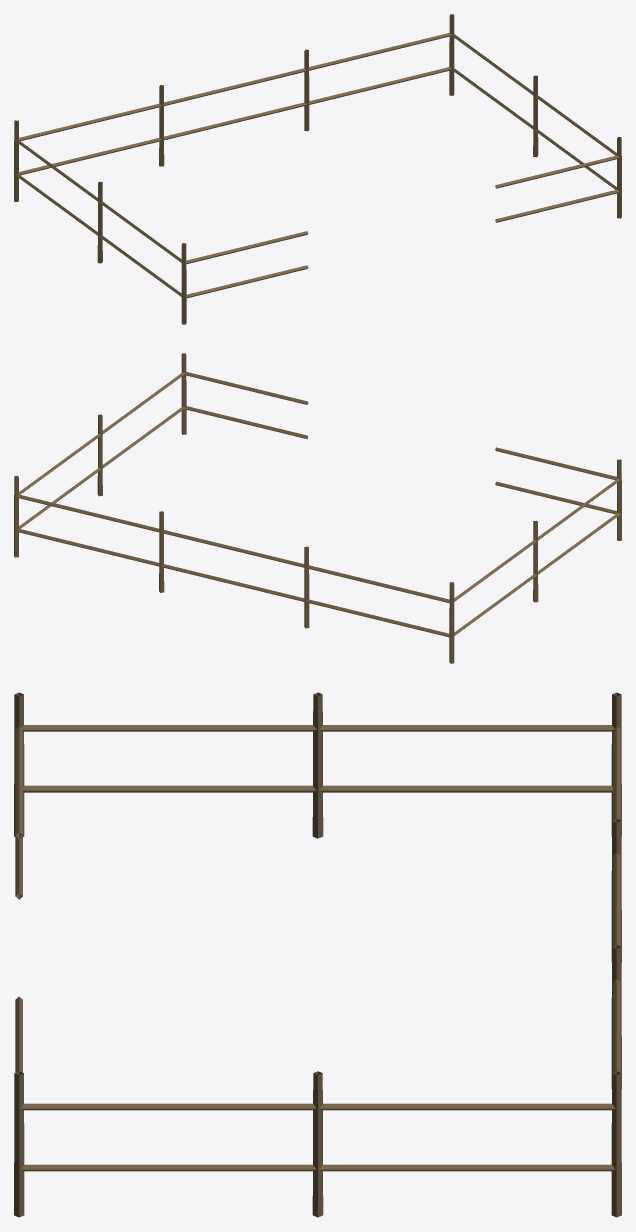
The model's file is herder-pen.glb.
3 views of the same model, one above another, from view 1: azimuth 30°, elevation 25°; view 2: azimuth 150°, elevation 25°; view 3: azimuth 270°, elevation 25° (orthographic). The views are drawn at different scales.
Visible parts, largest first — view 1: herder-pen; view 2: herder-pen; view 3: herder-pen.
Part boxes in pixels (box(x1,y1,x2,y2)): herder-pen: box(14, 14, 621, 324); herder-pen: box(14, 353, 621, 663); herder-pen: box(14, 692, 621, 1217).
Size of the model in its own units: 6.07 by 1.05 by 4.07.
